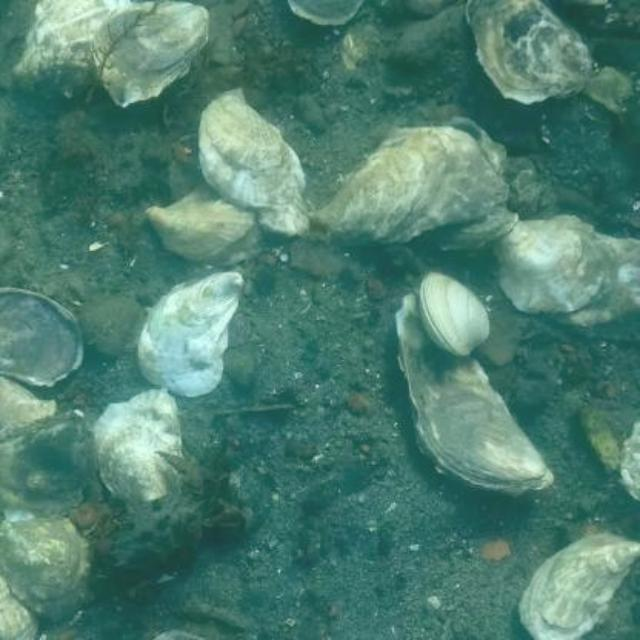Oyster-Closed: (394, 295, 555, 494), (317, 127, 509, 244), (200, 86, 310, 239), (135, 273, 242, 398), (469, 0, 595, 104), (521, 535, 640, 640), (93, 0, 210, 106), (496, 216, 609, 317), (94, 388, 181, 512), (15, 0, 130, 93), (0, 412, 98, 517), (147, 183, 268, 265), (0, 518, 94, 618), (0, 288, 85, 386), (554, 231, 640, 322), (425, 205, 519, 253), (0, 379, 57, 439), (0, 581, 40, 640), (287, 0, 363, 27), (620, 422, 640, 498)
